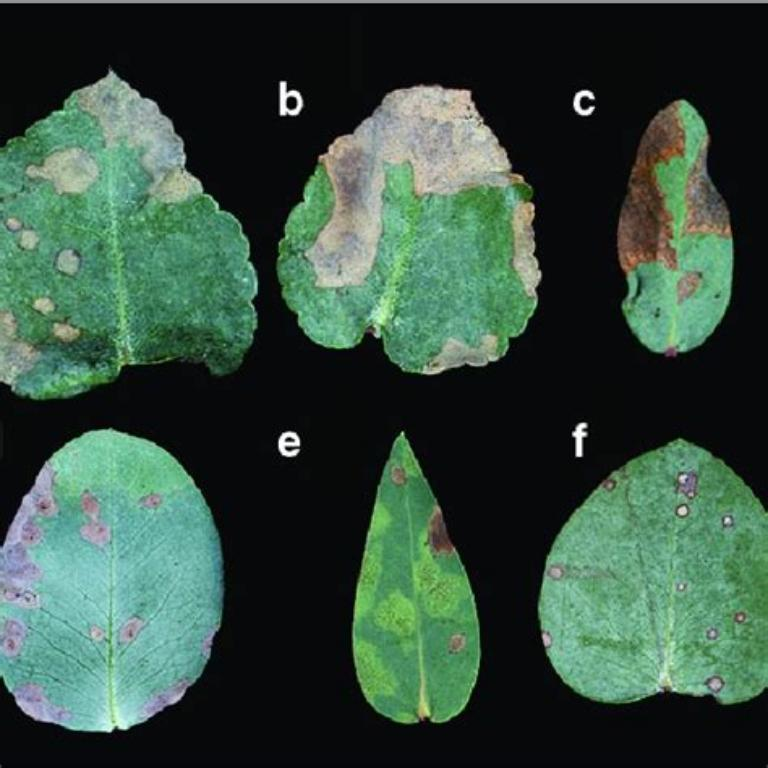blight: (322, 68, 528, 294), (618, 90, 734, 316), (0, 439, 82, 693), (382, 422, 484, 588)
